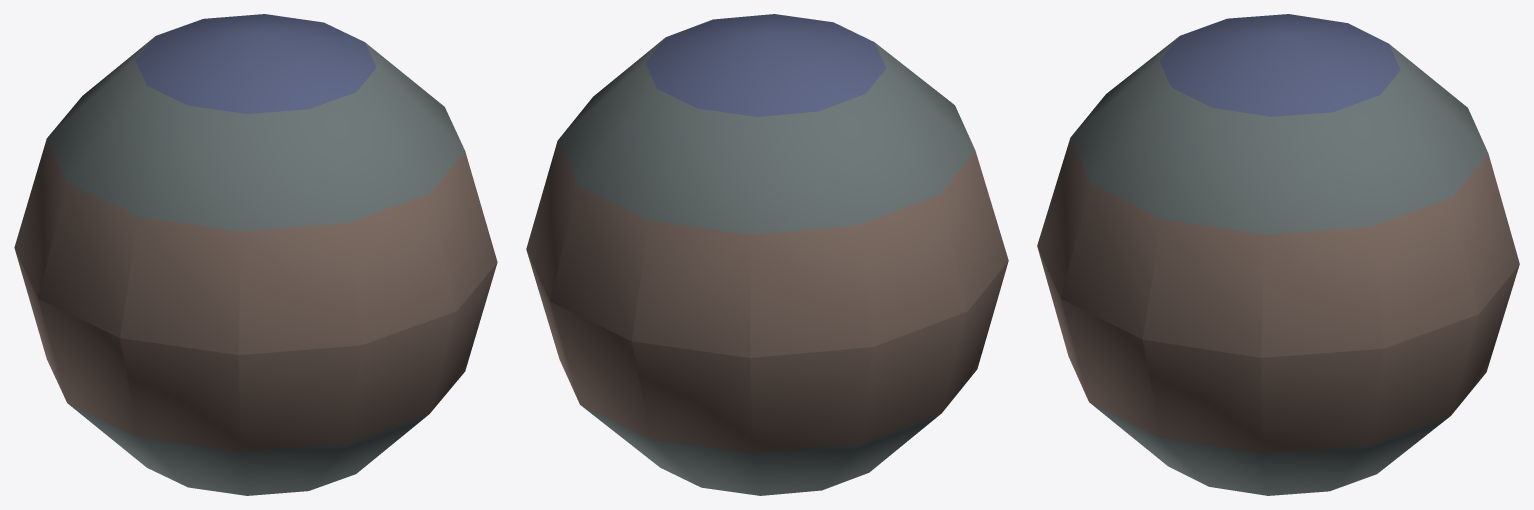
The model's file is MarbleBall.fbx.
3 views of the same model, side by side, from view 1: azimuth 30°, elevation 25°; view 2: azimuth 150°, elevation 25°; view 3: azimuth 270°, elevation 25° (orthographic).
Visible parts, largest first — view 1: MarbleBall (2); view 2: MarbleBall (2); view 3: MarbleBall (2).
Part boxes in pixels (box(x1,y1,x2,y2)): MarbleBall (2): box(14, 14, 497, 495); MarbleBall (2): box(526, 14, 1008, 495); MarbleBall (2): box(1037, 14, 1519, 495).
Bounding box in the file's own units: 99.74 × 100 × 99.74.
